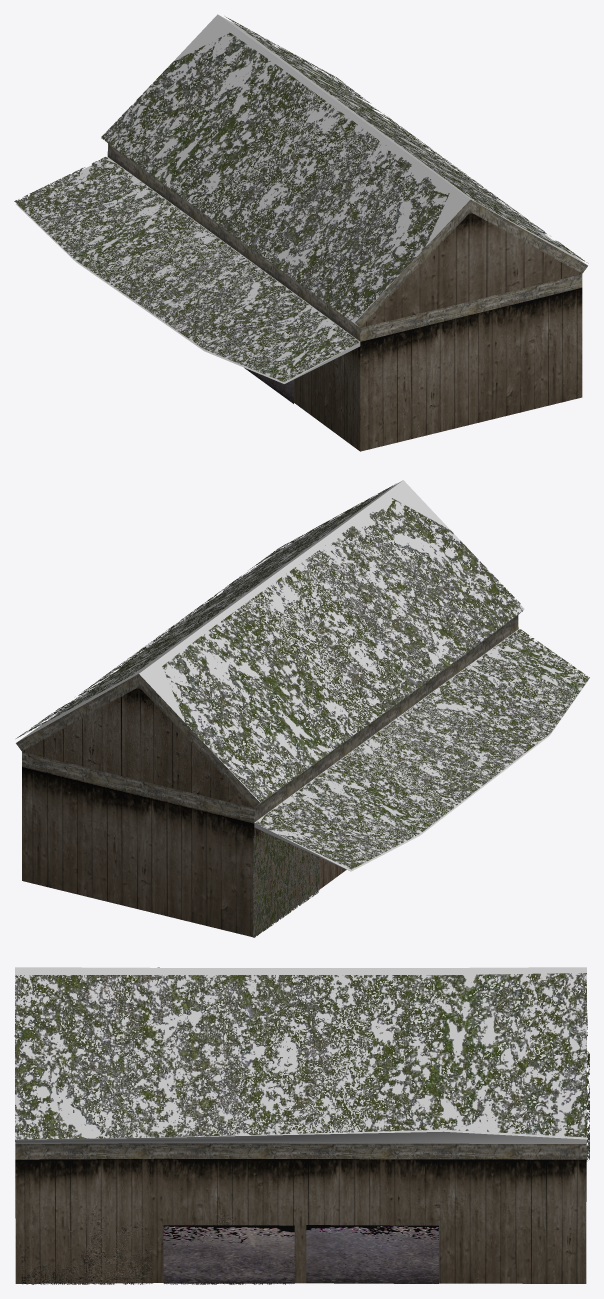
The model's file is Storehouse_LOD04.fbx.
3 renders of one model, top to bottom at view 1: azimuth 30°, elevation 25°; view 2: azimuth 150°, elevation 25°; view 3: azimuth 270°, elevation 25°, orthographic. The views are drawn at different scales.
Parts seen in each view (by area): view 1: Mesh Object; view 2: Mesh Object; view 3: Mesh Object.
Boxes of the visible parts, box(x1,y1,x2,y2) form: Mesh Object: box(14, 14, 588, 451); Mesh Object: box(16, 480, 589, 937); Mesh Object: box(14, 967, 589, 1284).
Size of the model in its own units: 7.44 by 4.96 by 10.08.
